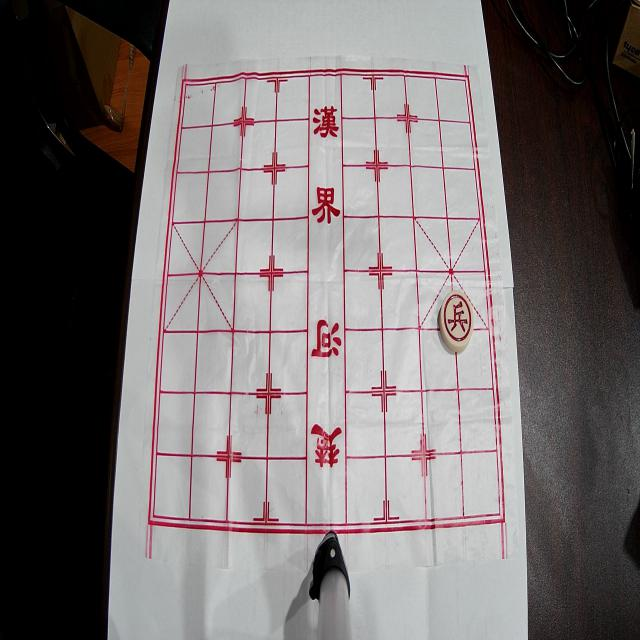red-soldier: (439, 289, 474, 352)
